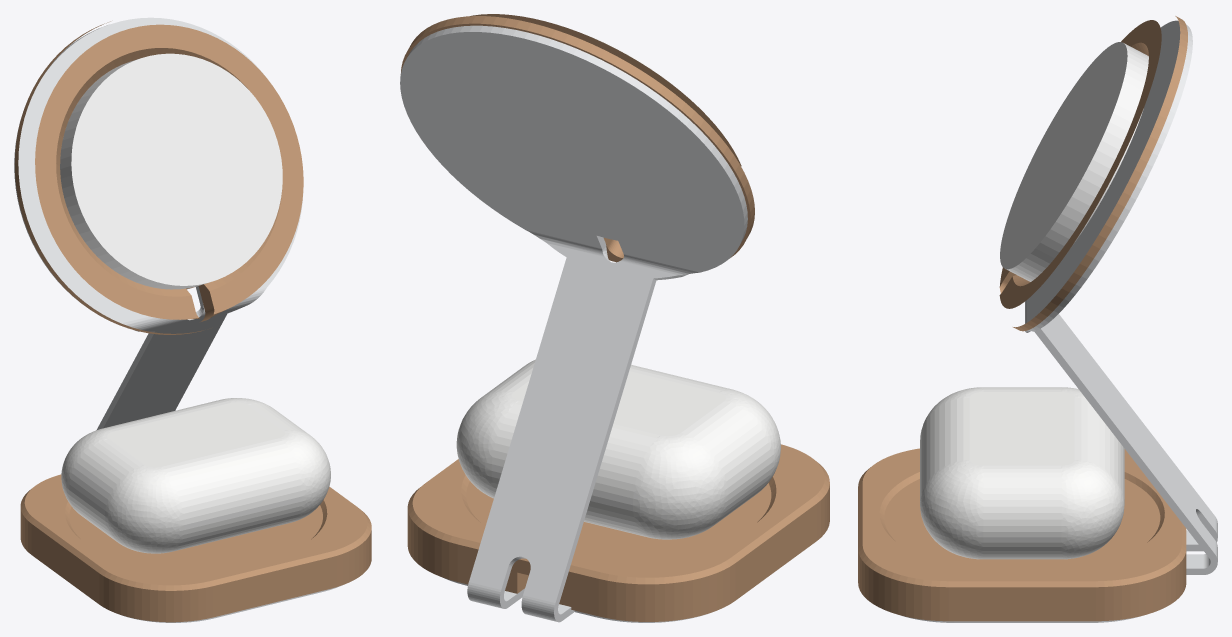
Rendered from v3-stand.glb.
3 renders of one model, left to right at view 1: azimuth 30°, elevation 25°; view 2: azimuth 150°, elevation 25°; view 3: azimuth 270°, elevation 25°, orthographic. The views are drawn at different scales.
Visible parts, largest first — view 1: Magsafe Charger:1, Airpods pro :1, Wood Base:1, Phone charger panel:1, Metal Base:1; view 2: Metal Base:1, Wood Base:1, Airpods pro :1, Phone charger panel:1; view 3: Airpods pro :1, Wood Base:1, Metal Base:1, Magsafe Charger:1, Phone charger panel:1.
Part boxes in pixels (left/top/right/bottom): Magsafe Charger:1: left=60, top=53, right=282, bottom=289; Airpods pro :1: left=61, top=398, right=330, bottom=553; Wood Base:1: left=20, top=474, right=371, bottom=622; Phone charger panel:1: left=14, top=21, right=303, bottom=334; Metal Base:1: left=14, top=17, right=342, bottom=622; Metal Base:1: left=400, top=25, right=747, bottom=622; Wood Base:1: left=407, top=444, right=829, bottom=621; Airpods pro :1: left=456, top=359, right=780, bottom=539; Phone charger panel:1: left=400, top=14, right=754, bottom=262; Airpods pro :1: left=920, top=387, right=1124, bottom=559; Wood Base:1: left=858, top=448, right=1186, bottom=621; Metal Base:1: left=903, top=20, right=1217, bottom=622; Magsafe Charger:1: left=1000, top=42, right=1148, bottom=281; Phone charger panel:1: left=999, top=16, right=1187, bottom=331.
Size of the model in its own units: 0.0776 by 0.1275 by 0.0794.
